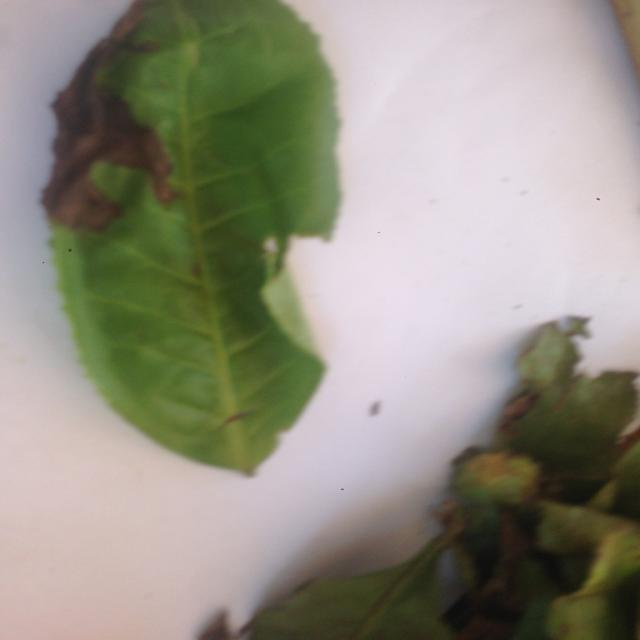Brown Blight: (42, 0, 358, 487)
